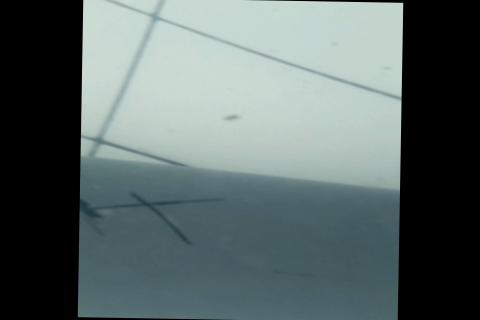keretakan: (78, 178, 226, 247)
